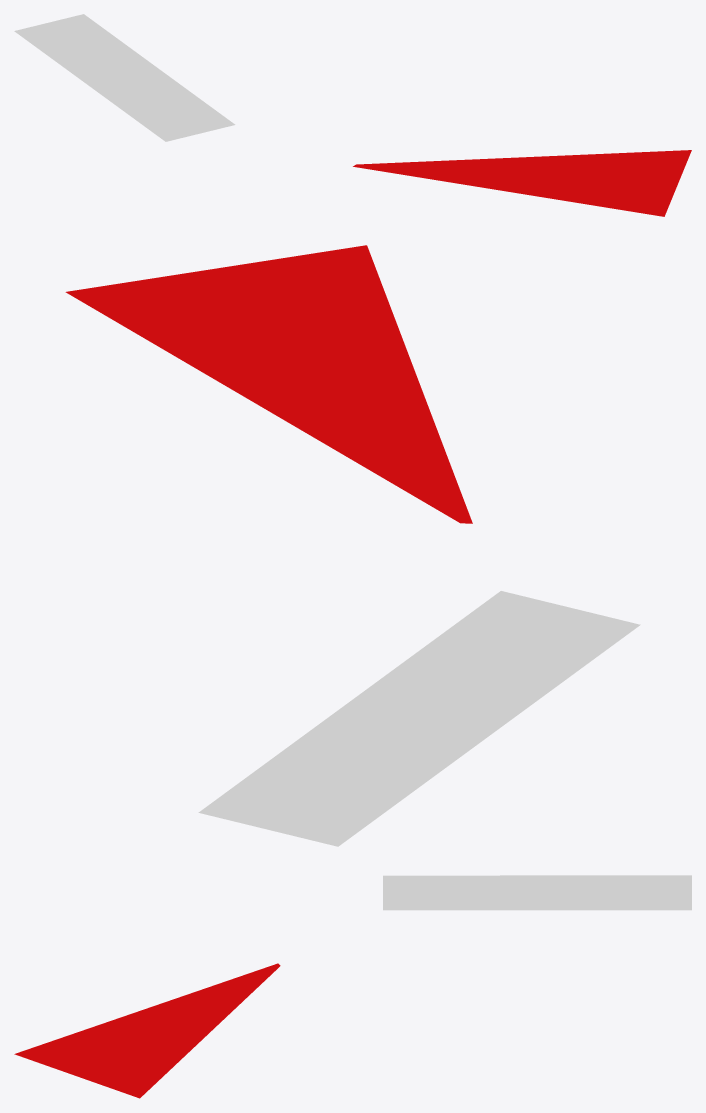
Rendered from belgium.glb.
The picture shows the model from 3 angles, top to bottom: view 1: azimuth 30°, elevation 25°; view 2: azimuth 150°, elevation 25°; view 3: azimuth 270°, elevation 25°; orthographic projection. The views are drawn at different scales.
Parts seen in each view (by area): view 1: Plane.002, Plane.001; view 2: Plane.002, Plane.001; view 3: Plane.002, Plane.001.
Part boxes in pixels (left/top/right/bottom): Plane.002: left=353, top=150, right=691, bottom=216; Plane.001: left=14, top=14, right=235, bottom=141; Plane.002: left=65, top=245, right=472, bottom=523; Plane.001: left=198, top=591, right=640, bottom=846; Plane.002: left=14, top=963, right=280, bottom=1098; Plane.001: left=383, top=875, right=691, bottom=910.
Size of what is drawn, in the model's own units: 2.86 by 0.1351 by 4.05.
